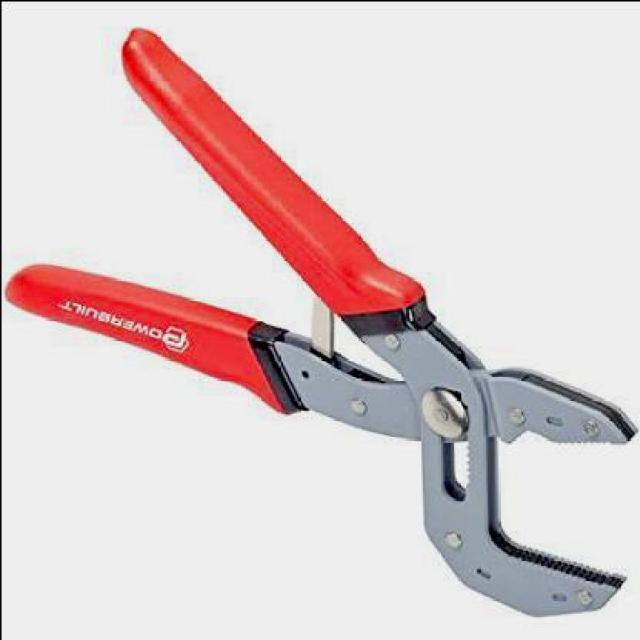pliers: (4, 24, 628, 620)
